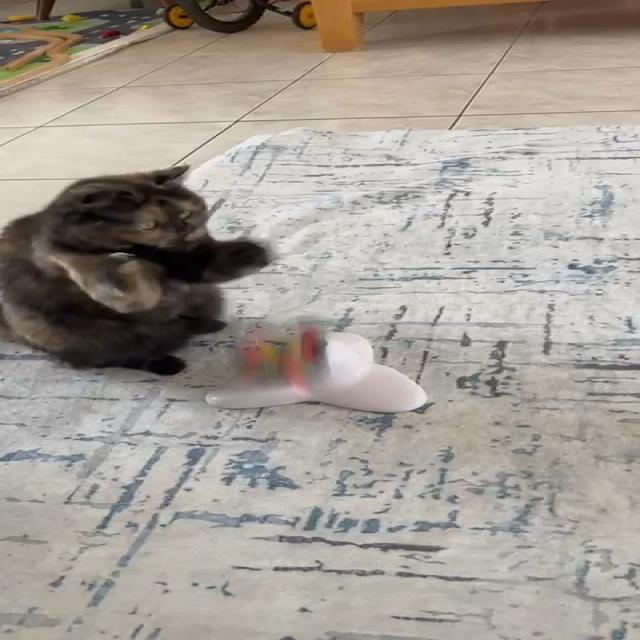authorized: (0, 162, 271, 376)
